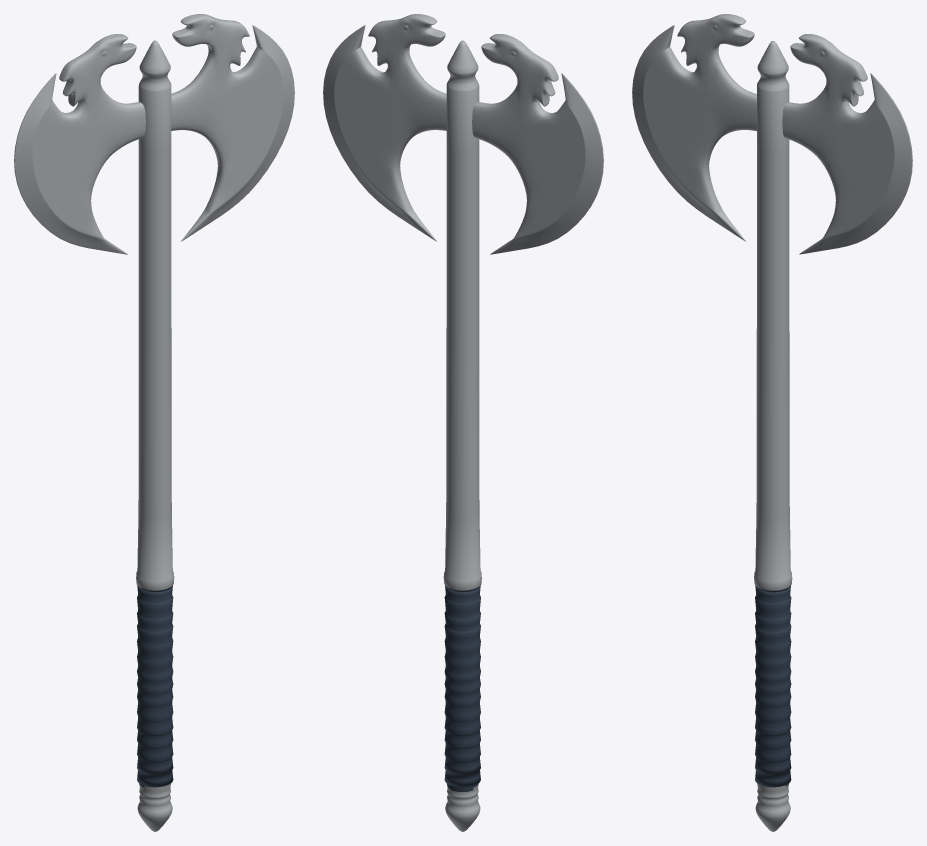
The model's file is axe.fbx.
3 renders of one model, left to right at view 1: azimuth 30°, elevation 25°; view 2: azimuth 150°, elevation 25°; view 3: azimuth 330°, elevation 25°, orthographic.
Visible parts, largest first — view 1: polySurface1, pCylinder1; view 2: polySurface1, pCylinder1; view 3: polySurface1, pCylinder1.
Boxes of the visible parts, x1=… form: polySurface1: x1=14, y1=14, x2=294, y2=254; pCylinder1: x1=136, y1=40, x2=174, y2=831; polySurface1: x1=323, y1=14, x2=603, y2=254; pCylinder1: x1=443, y1=40, x2=481, y2=831; polySurface1: x1=632, y1=14, x2=912, y2=254; pCylinder1: x1=754, y1=41, x2=792, y2=831.
Size of the model in its own units: 7.85 by 21.53 by 0.9284.
